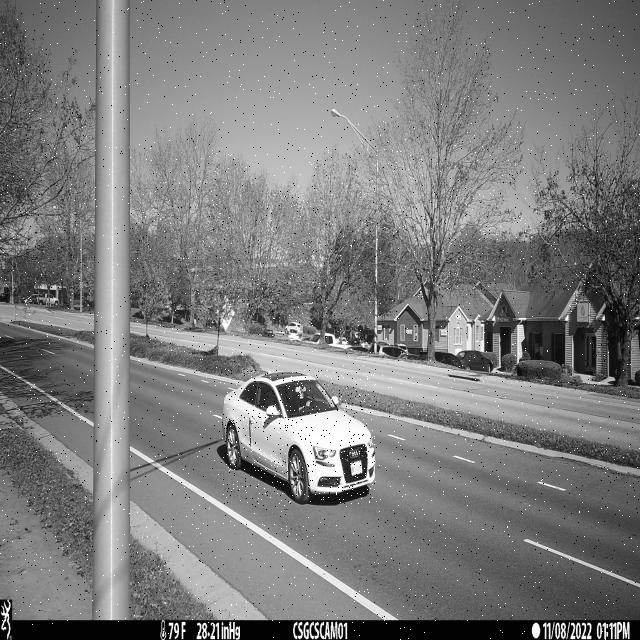Sedan: (221, 369, 377, 504)
